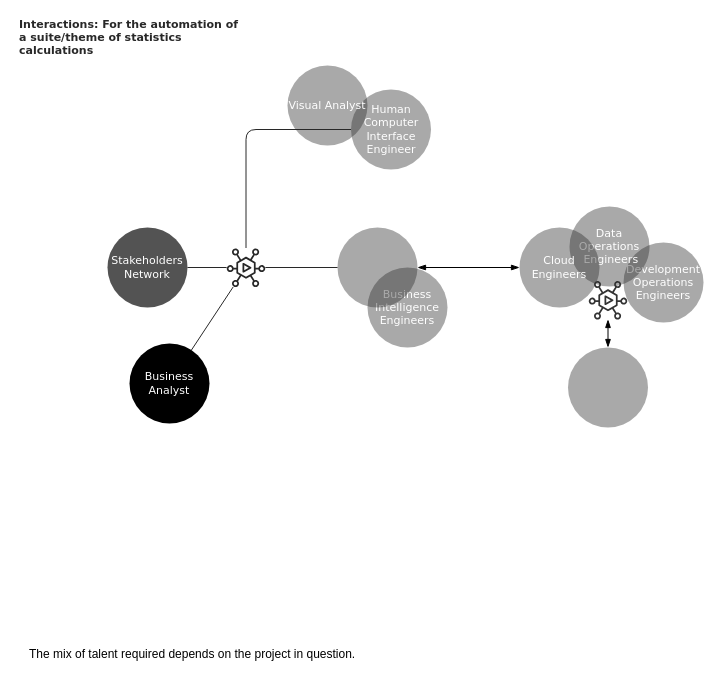
Image size: 720x686. Some labels were removed from this diagram. The shapes that lost their labels are listed below. From the top down, each one's box as (x1, y1, x2, y2) in pixels, then its label:
(337, 227, 417, 307): Data Engineers
(568, 347, 648, 427): Security Expert
